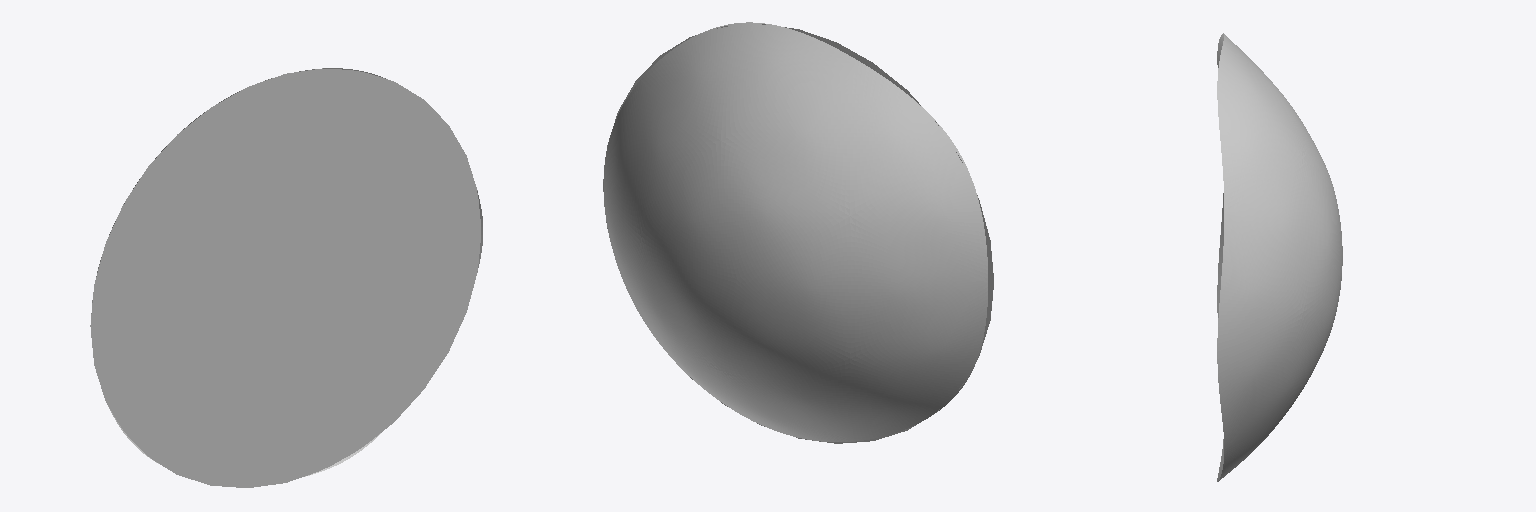
File: lens2.obj
The picture shows the model from 3 angles: view 1: azimuth 30°, elevation 25°; view 2: azimuth 150°, elevation 25°; view 3: azimuth 270°, elevation 25°; orthographic projection.
Visible parts, largest first — view 1: Circle; view 2: Icosphere, Circle; view 3: Icosphere.
Part boxes in pixels (x1,y1,x2,y2): Circle: (90,68,480,487); Icosphere: (603,22,987,441); Circle: (603,24,993,443); Icosphere: (1217,33,1342,481).
Bounding box in the file's own units: 1.65 × 1.65 × 0.4569.